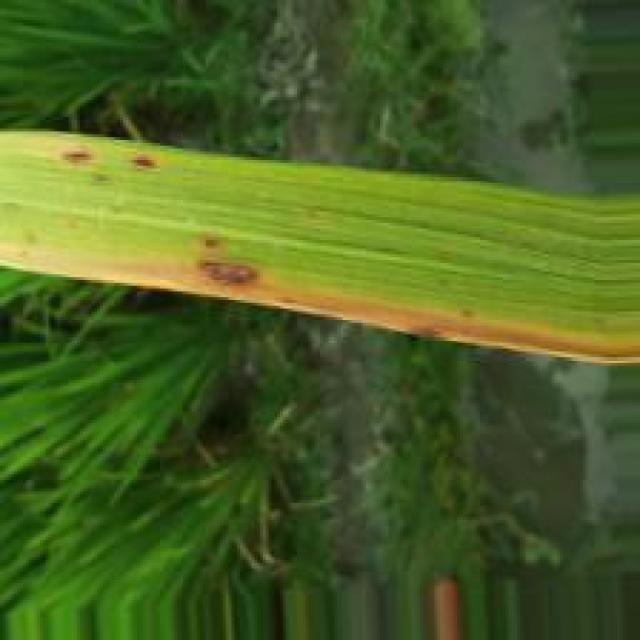Narrow_Brown_Leaf_Spot: (8, 226, 640, 371), (53, 146, 107, 168), (132, 156, 163, 171)
